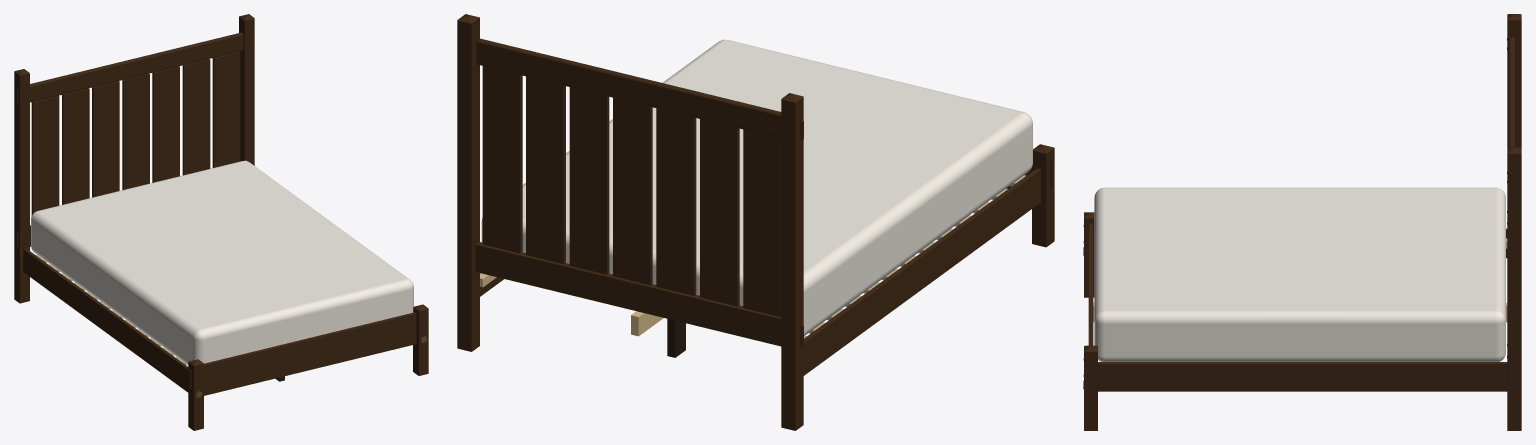
File: bed-frame-bare.glb
The picture shows the model from 3 angles, left to right: view 1: azimuth 30°, elevation 25°; view 2: azimuth 150°, elevation 25°; view 3: azimuth 270°, elevation 25°; orthographic projection. The views are drawn at different scales.
Visible parts, largest first — view 1: Bed mattress, Bed foot rail, Bed side rail L, Bed headboard rail top, Bed headboard post L, Bed headboard slat 1, Bed headboard slat 6, Bed headboard slat 7, Bed headboard slat 2, Bed headboard slat 5, Bed headboard slat 3, Bed headboard slat 4 (+3 smaller); view 2: Bed mattress, Bed headboard rail bottom, Bed side rail L, Bed headboard rail top, Bed headboard post L, Bed headboard post R, Bed headboard slat 3, Bed headboard slat 5, Bed headboard slat 7, Bed headboard slat 4, Bed headboard slat 2, Bed headboard slat 6 (+3 smaller); view 3: Bed mattress, Bed side rail R, Bed headboard post R, Bed headboard post L, Bed foot leg R, Bed headboard rail top, Bed foot rail, Bed foot leg L.
Part boxes in pixels (x1,y1,x2,y2): Bed mattress: [31, 160, 413, 364]; Bed foot rail: [204, 312, 416, 395]; Bed side rail L: [23, 248, 188, 392]; Bed headboard rail top: [30, 32, 243, 102]; Bed headboard post L: [14, 72, 29, 303]; Bed headboard slat 1: [31, 95, 59, 215]; Bed headboard slat 6: [182, 59, 210, 175]; Bed headboard slat 7: [212, 51, 240, 167]; Bed headboard slat 2: [62, 88, 89, 204]; Bed headboard slat 5: [152, 66, 179, 182]; Bed headboard slat 3: [92, 81, 119, 197]; Bed headboard slat 4: [122, 73, 149, 190]; Bed mattress: [481, 39, 1032, 335]; Bed headboard rail bottom: [475, 242, 781, 346]; Bed side rail L: [803, 168, 1041, 375]; Bed headboard rail top: [476, 38, 781, 138]; Bed headboard post L: [781, 97, 803, 430]; Bed headboard post R: [457, 18, 479, 351]; Bed headboard slat 3: [656, 108, 696, 295]; Bed headboard slat 5: [569, 87, 609, 274]; Bed headboard slat 7: [482, 66, 522, 253]; Bed headboard slat 4: [613, 97, 652, 285]; Bed headboard slat 2: [700, 119, 739, 306]; Bed headboard slat 6: [526, 76, 565, 263]; Bed mattress: [1094, 187, 1505, 361]; Bed side rail R: [1098, 362, 1507, 391]; Bed headboard post R: [1507, 153, 1521, 430]; Bed headboard post L: [1507, 20, 1521, 147]; Bed foot leg R: [1084, 352, 1097, 430]; Bed headboard rail top: [1508, 37, 1514, 147]; Bed foot rail: [1088, 223, 1093, 345]; Bed foot leg L: [1084, 218, 1094, 297].
Size of the model in its own units: 1.65 by 1.53 by 2.16.
